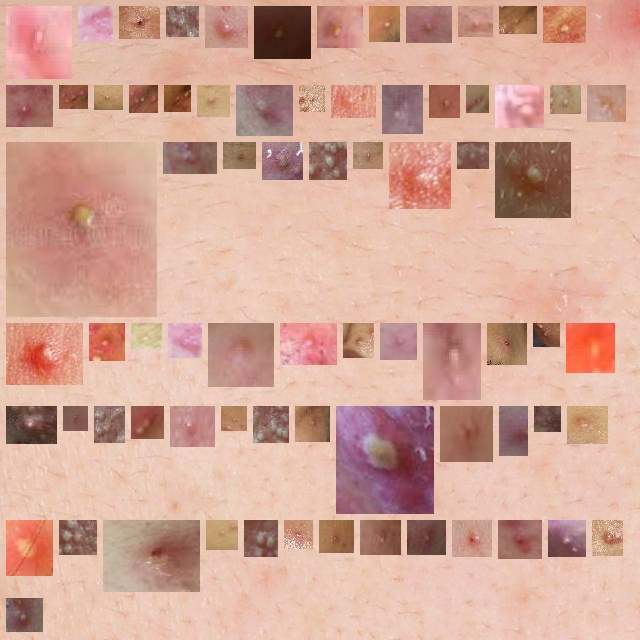pustule: (14, 150, 149, 309), (344, 414, 426, 506), (111, 528, 192, 584), (503, 150, 563, 210), (14, 14, 64, 71), (14, 331, 75, 377), (431, 331, 473, 392), (216, 331, 266, 379), (397, 150, 443, 201), (262, 14, 303, 51), (448, 414, 485, 454), (244, 93, 285, 128), (14, 528, 45, 568), (574, 331, 607, 365), (288, 331, 329, 357), (503, 93, 536, 120), (390, 93, 415, 126), (178, 411, 207, 439), (14, 93, 45, 119), (325, 14, 355, 40), (14, 414, 49, 436), (507, 414, 528, 448), (213, 14, 240, 40), (506, 528, 534, 551), (414, 14, 444, 35), (495, 331, 519, 357), (171, 150, 209, 166), (551, 14, 578, 35), (270, 150, 295, 172), (575, 414, 600, 436), (460, 528, 484, 549), (339, 93, 368, 110), (317, 150, 339, 172), (595, 93, 618, 114), (368, 528, 393, 547), (556, 528, 578, 549), (388, 331, 409, 352), (97, 331, 117, 353), (415, 528, 438, 547), (127, 14, 152, 31), (261, 414, 281, 435), (67, 528, 89, 547), (303, 414, 322, 434), (252, 528, 270, 549), (14, 606, 35, 624), (86, 14, 105, 33), (176, 331, 194, 350), (327, 528, 346, 545), (102, 414, 117, 435), (377, 14, 392, 34), (600, 528, 615, 548), (139, 414, 156, 431), (466, 14, 485, 29), (351, 331, 366, 350), (205, 93, 222, 109), (507, 14, 529, 26), (174, 14, 191, 29), (437, 93, 452, 110), (214, 528, 230, 542), (558, 93, 573, 106), (231, 150, 248, 161), (465, 150, 481, 161), (292, 528, 305, 541), (137, 93, 150, 105), (361, 150, 375, 161), (139, 331, 154, 341), (172, 93, 183, 104), (102, 93, 115, 102), (307, 93, 317, 104), (542, 414, 553, 424), (67, 93, 80, 101), (229, 414, 239, 423), (541, 331, 552, 339), (474, 93, 481, 105), (71, 414, 80, 423)
